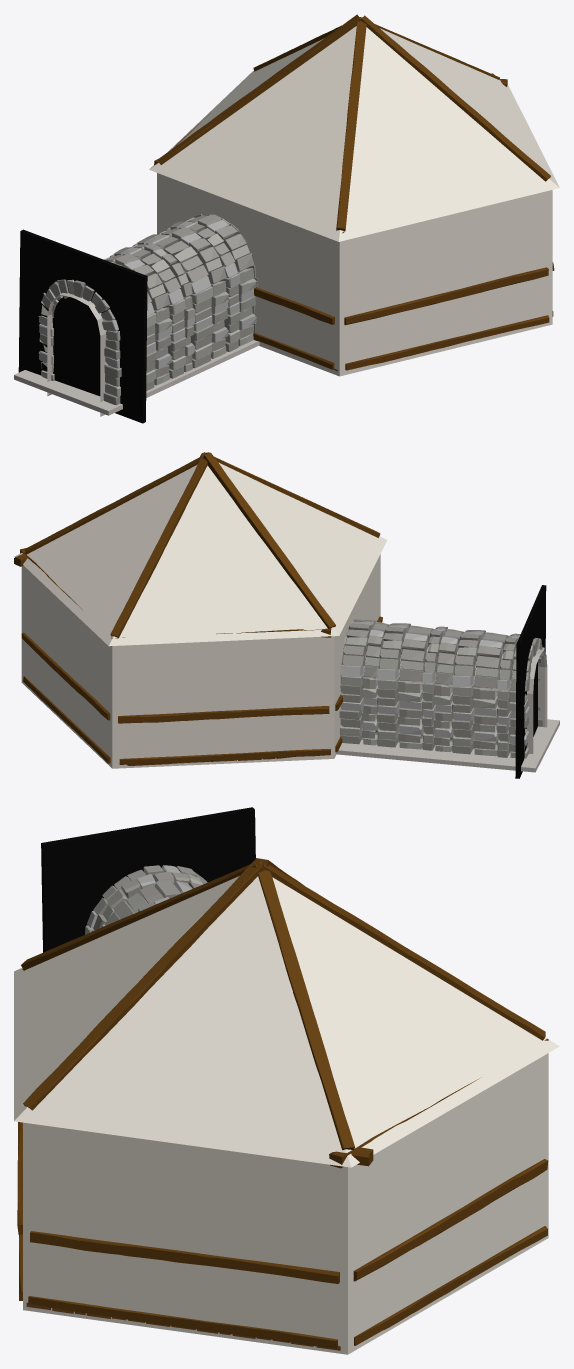
Rendered from BPW_Room.fbx.
3 renders of one model, top to bottom at view 1: azimuth 30°, elevation 25°; view 2: azimuth 150°, elevation 25°; view 3: azimuth 270°, elevation 25°, orthographic. The views are drawn at different scales.
Visible parts, largest first — view 1: Cone, RoomFrame, Doorframe.010, Bricks4.001, Pillar.001, Pillar4; view 2: Cone, RoomFrame, Doorframe.010, Bricks4.001, Pillar.001, Pillar4; view 3: Cone, RoomFrame, Bricks4.001, Pillar.001, Pillar4, Doorframe.010, Floor.
Boxes of the visible parts, bbox=[...] form: Cone: bbox=[149, 26, 559, 241]; RoomFrame: bbox=[157, 173, 552, 376]; Doorframe.010: bbox=[38, 214, 256, 405]; Bricks4.001: bbox=[14, 229, 259, 423]; Pillar.001: bbox=[157, 14, 550, 230]; Pillar4: bbox=[154, 73, 554, 370]; Cone: bbox=[14, 462, 387, 646]; RoomFrame: bbox=[21, 554, 380, 768]; Doorframe.010: bbox=[339, 619, 544, 758]; Bricks4.001: bbox=[336, 585, 559, 778]; Pillar.001: bbox=[24, 452, 380, 638]; Pillar4: bbox=[14, 548, 382, 764]; Cone: bbox=[14, 876, 559, 1167]; RoomFrame: bbox=[23, 1053, 548, 1354]; Bricks4.001: bbox=[41, 807, 255, 952]; Pillar.001: bbox=[21, 858, 545, 1150]; Pillar4: bbox=[17, 969, 548, 1348]; Doorframe.010: bbox=[85, 865, 207, 934]; Floor: bbox=[26, 1302, 340, 1350].
Size of the model in its own units: 7036 by 3561 by 4489.
